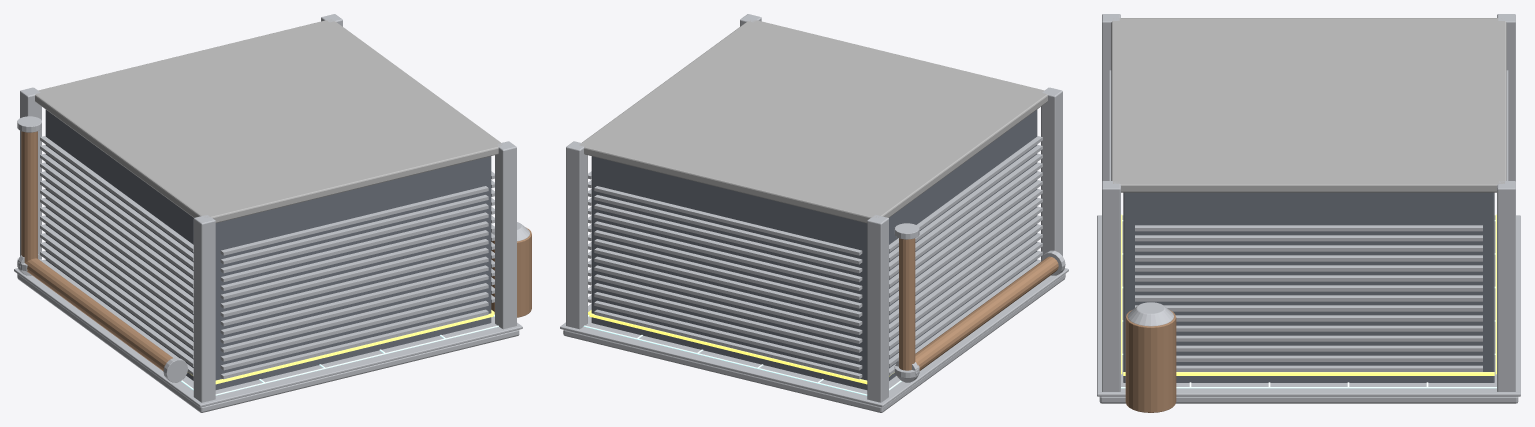
Rendered from mech_5x5_office.glb.
3 views of the same model, side by side, from view 1: azimuth 30°, elevation 25°; view 2: azimuth 150°, elevation 25°; view 3: azimuth 270°, elevation 25° (orthographic). The views are drawn at different scales.
Visible parts, largest first — view 1: int_ceiling, ext_core, ext_louver3, ext_louver2, int_columns, int_slab_edge, int_slab, ext_bigpipe, ext_bigpipe2, ext_tank, ext_mech_glow, int_grid (+1 smaller); view 2: int_ceiling, ext_core, ext_louver1, ext_louver2, int_columns, int_slab_edge, int_slab, ext_bigpipe, ext_bigpipe2, ext_mech_glow, int_grid; view 3: int_ceiling, ext_core, ext_louver0, int_columns, int_slab_edge, ext_tank, int_slab, ext_mech_glow, ext_tank_cap, int_grid.
Boxes of the visible parts, x1,y1,x2,y2 form: int_ceiling: [35, 19, 502, 222]; ext_core: [45, 110, 491, 389]; ext_louver3: [220, 186, 488, 379]; ext_louver2: [40, 136, 193, 375]; int_columns: [20, 14, 516, 402]; int_slab_edge: [14, 268, 522, 407]; int_slab: [17, 274, 519, 412]; ext_bigpipe: [25, 258, 172, 371]; ext_bigpipe2: [21, 131, 37, 262]; ext_tank: [491, 227, 531, 317]; ext_mech_glow: [191, 310, 494, 384]; int_grid: [181, 315, 498, 395]; int_ceiling: [579, 20, 1047, 223]; ext_core: [591, 109, 1037, 389]; ext_louver1: [594, 186, 862, 379]; ext_louver2: [889, 136, 1042, 375]; int_columns: [566, 14, 1062, 402]; int_slab_edge: [560, 268, 1068, 407]; int_slab: [563, 274, 1065, 412]; ext_bigpipe: [915, 256, 1058, 370]; ext_bigpipe2: [899, 238, 915, 370]; ext_mech_glow: [588, 310, 894, 384]; int_grid: [583, 315, 901, 395]; int_ceiling: [1111, 18, 1506, 192]; ext_core: [1123, 192, 1494, 382]; ext_louver0: [1135, 225, 1482, 371]; int_columns: [1102, 14, 1515, 391]; int_slab_edge: [1097, 215, 1520, 396]; ext_tank: [1125, 310, 1176, 412]; int_slab: [1099, 396, 1518, 403]; ext_mech_glow: [1121, 214, 1496, 375]; ext_tank_cap: [1127, 302, 1173, 326]; int_grid: [1121, 220, 1496, 388].
Bounding box in the file's own units: 6.1 × 3 × 5.36.
